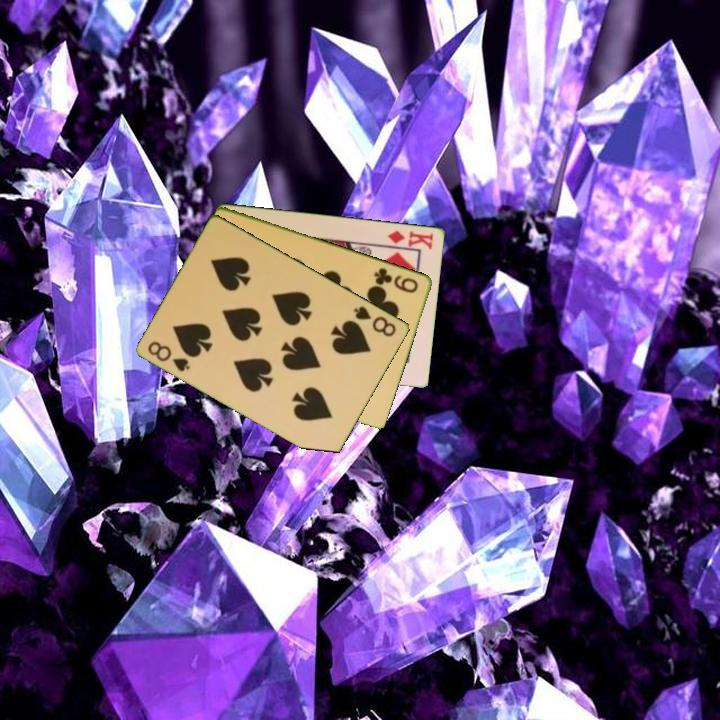8s: (144, 337, 193, 375), (351, 302, 399, 340)
9c: (371, 264, 421, 296)
Kd: (384, 227, 436, 252)
